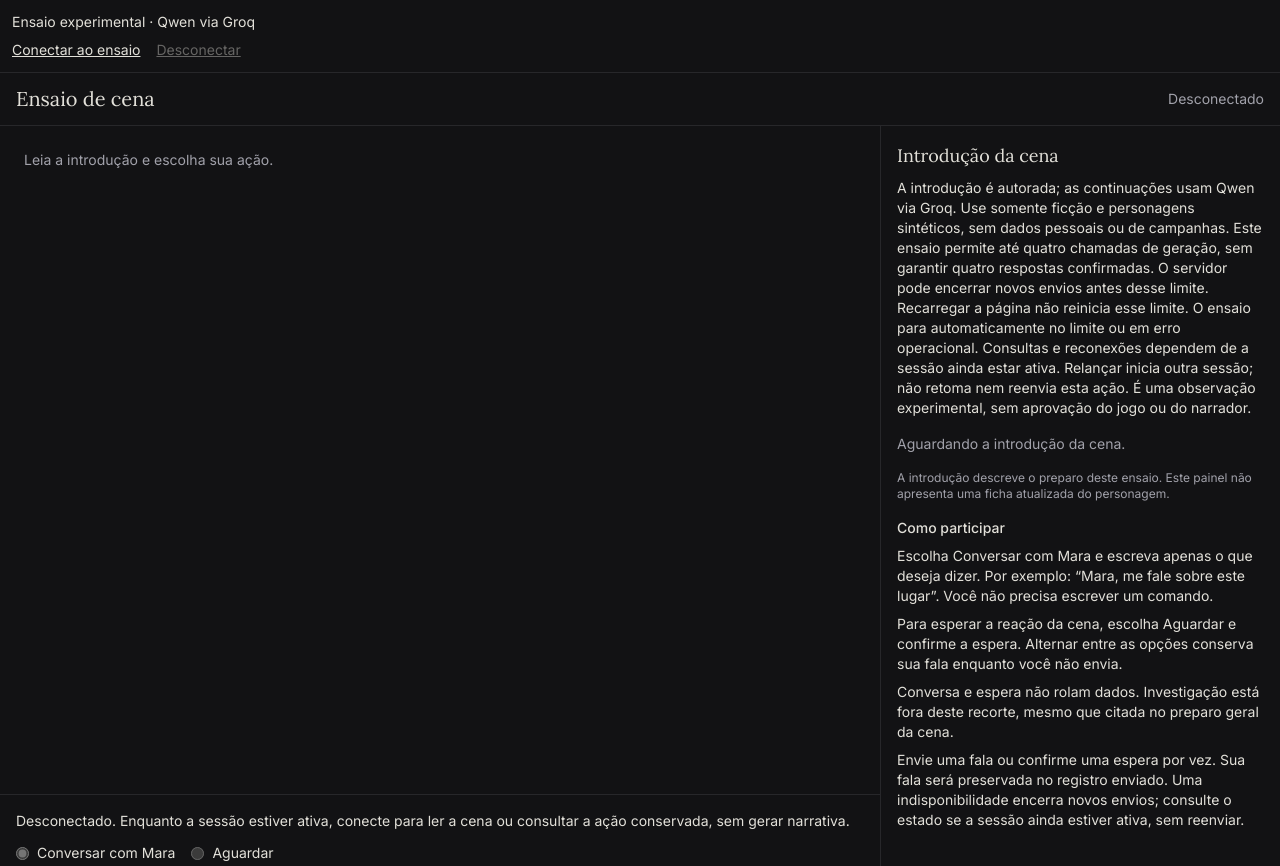
Test: declared dialogue controls › preserves literal speech with compatible quotes 0
Click the button "Conectar ao ensaio" at (76, 50), box [12,40,140,60]
Wait 60000 ms
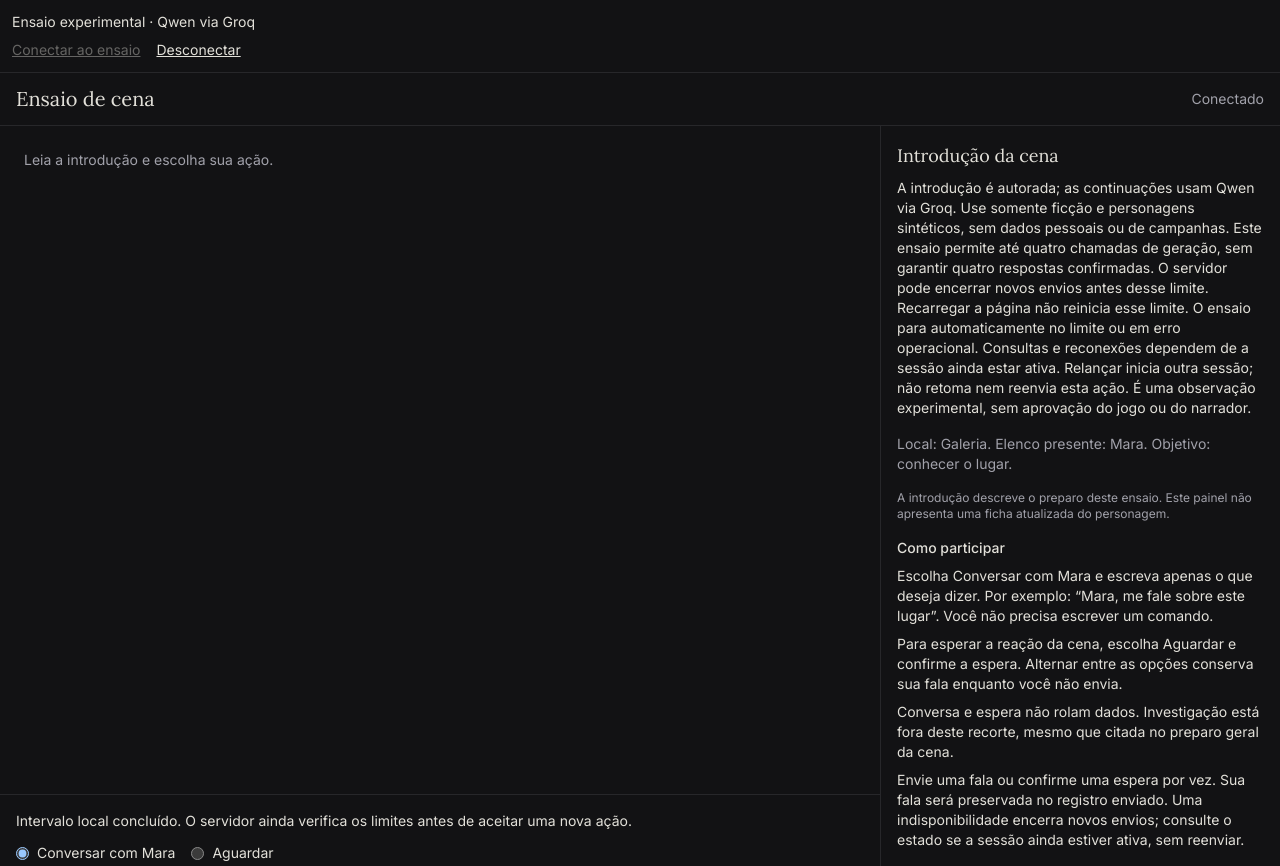
Click the radio button labelled "Conversar com Mara" at (22, 853), box [16,846,29,860]
(page scrolled)
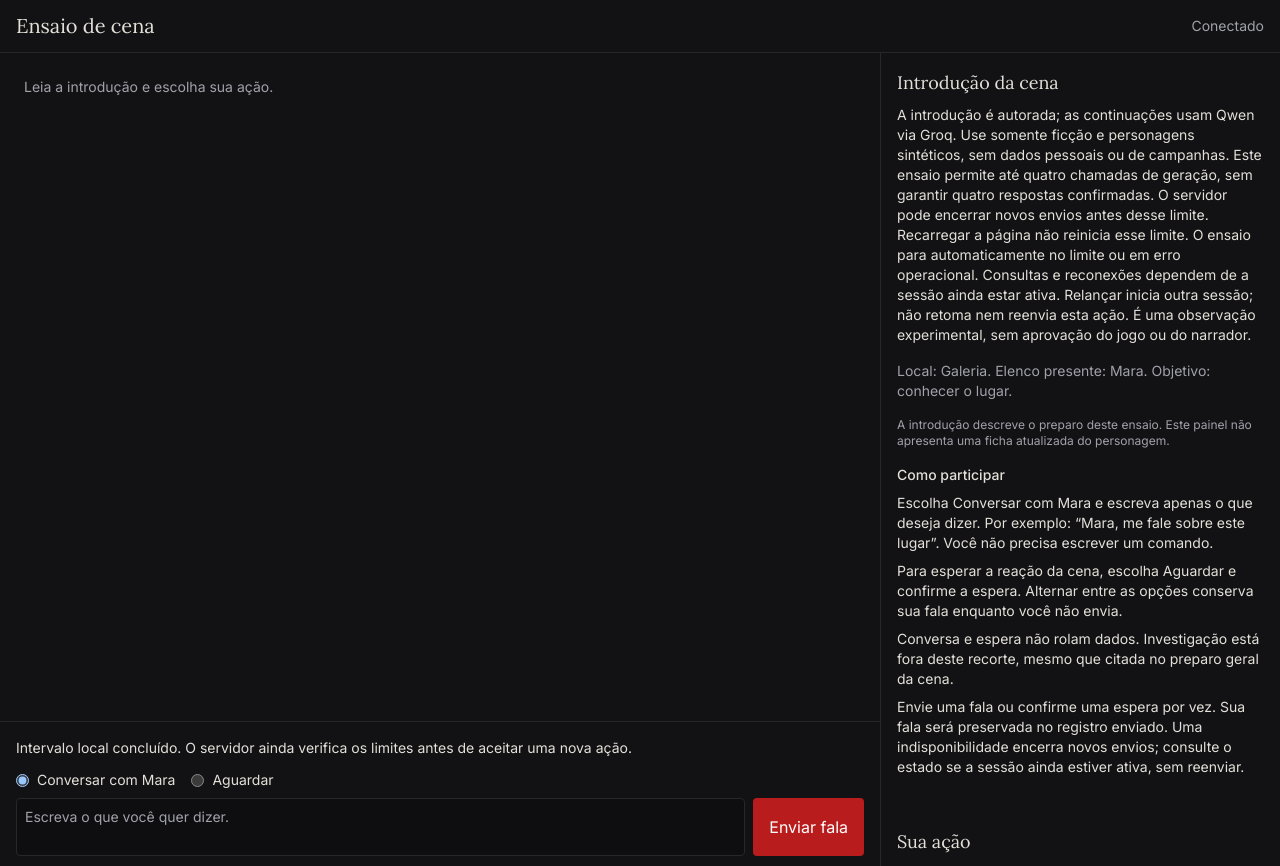
Type "Ela disse \"olá\"." into the text box named "Sua fala para Mara" at (381, 827), box [16,798,745,856]
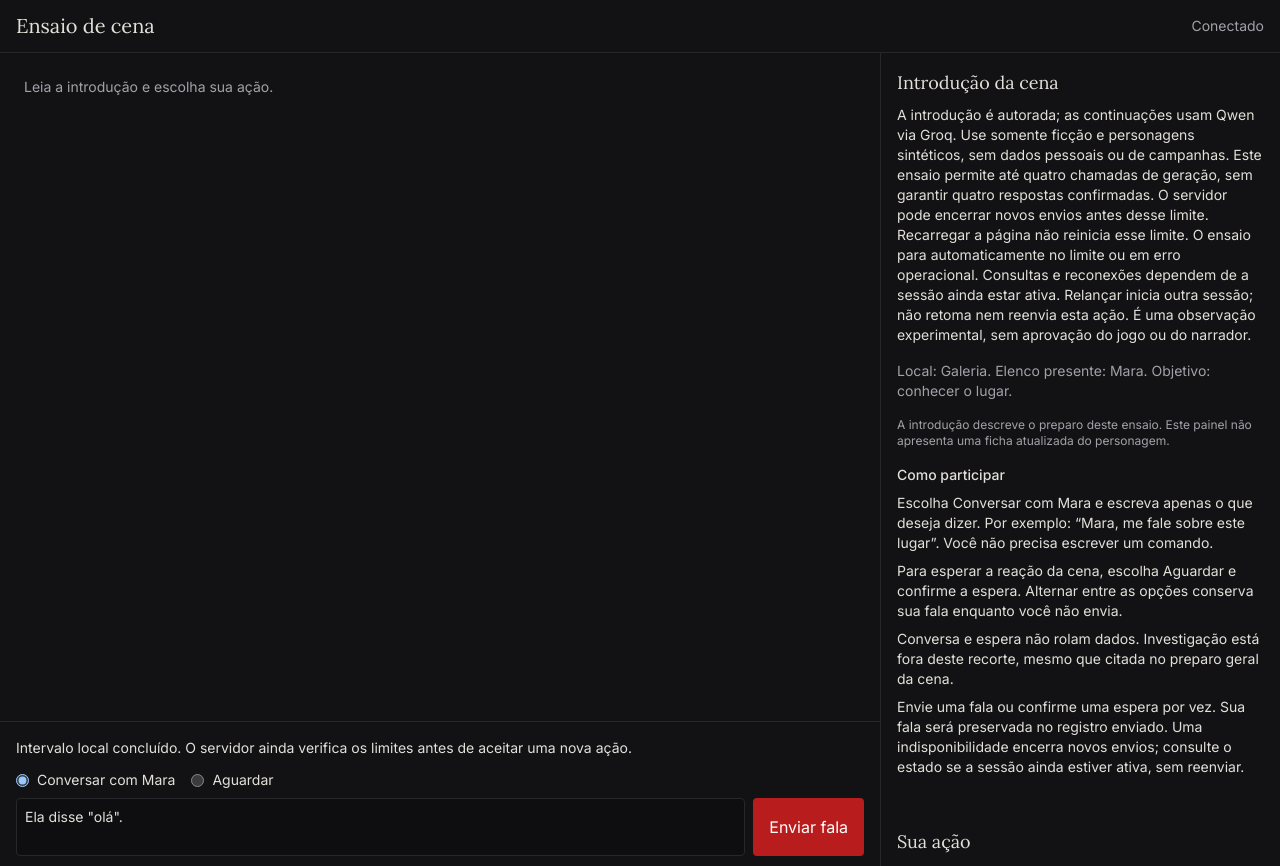
Click the button "Enviar fala" at (809, 827), box [753,798,864,856]
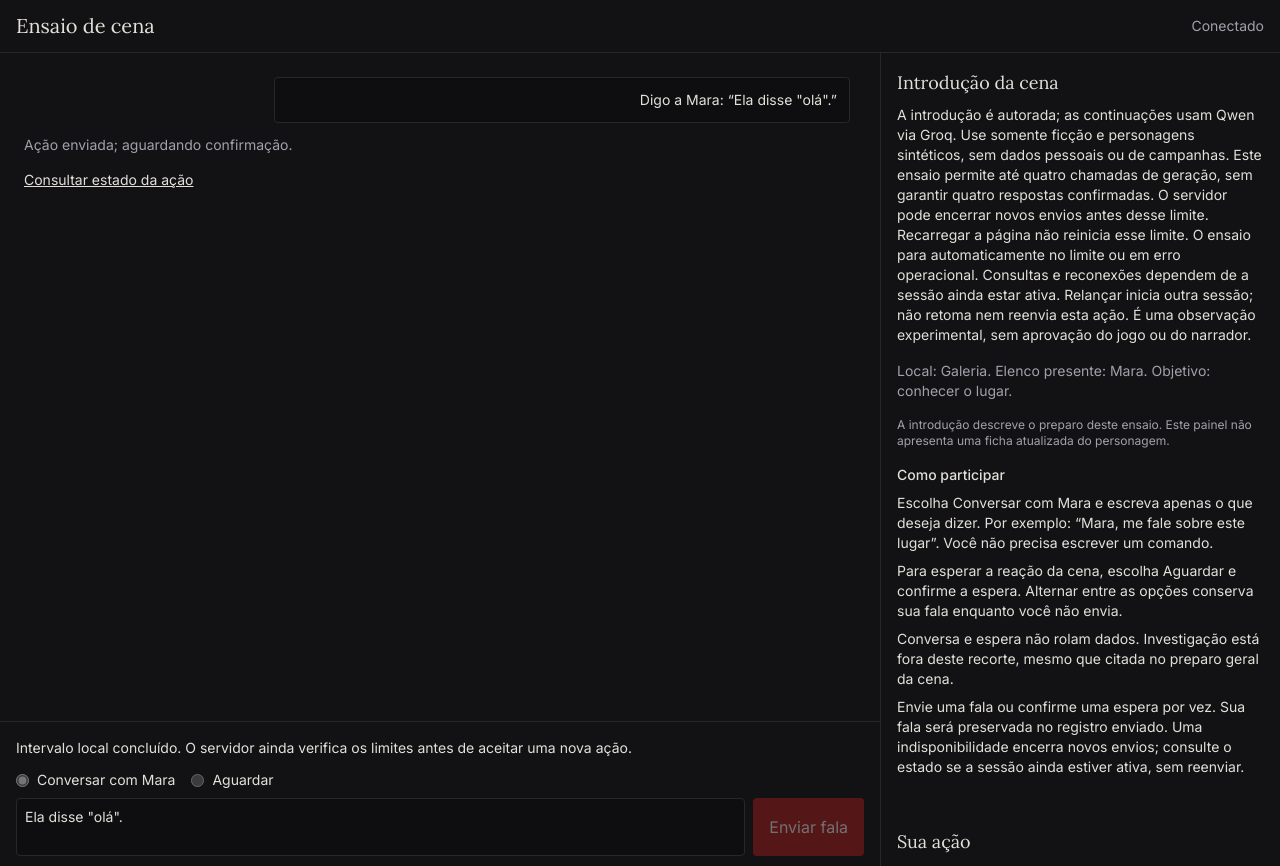
Expected: the text "Digo a Mara: “Ela disse \"olá\".”" is shown, [274,77,850,123]
